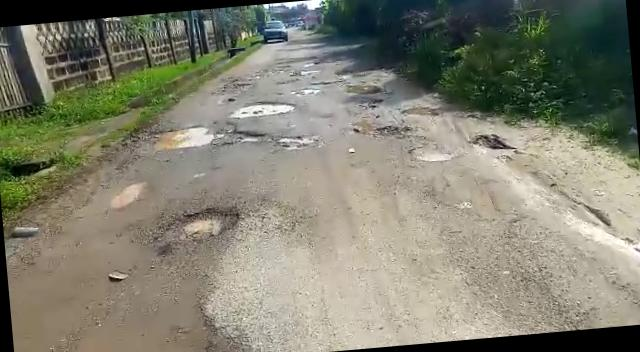pothole: (144, 120, 266, 154), (158, 204, 245, 242), (227, 96, 297, 118), (274, 132, 326, 155), (408, 142, 455, 164)
